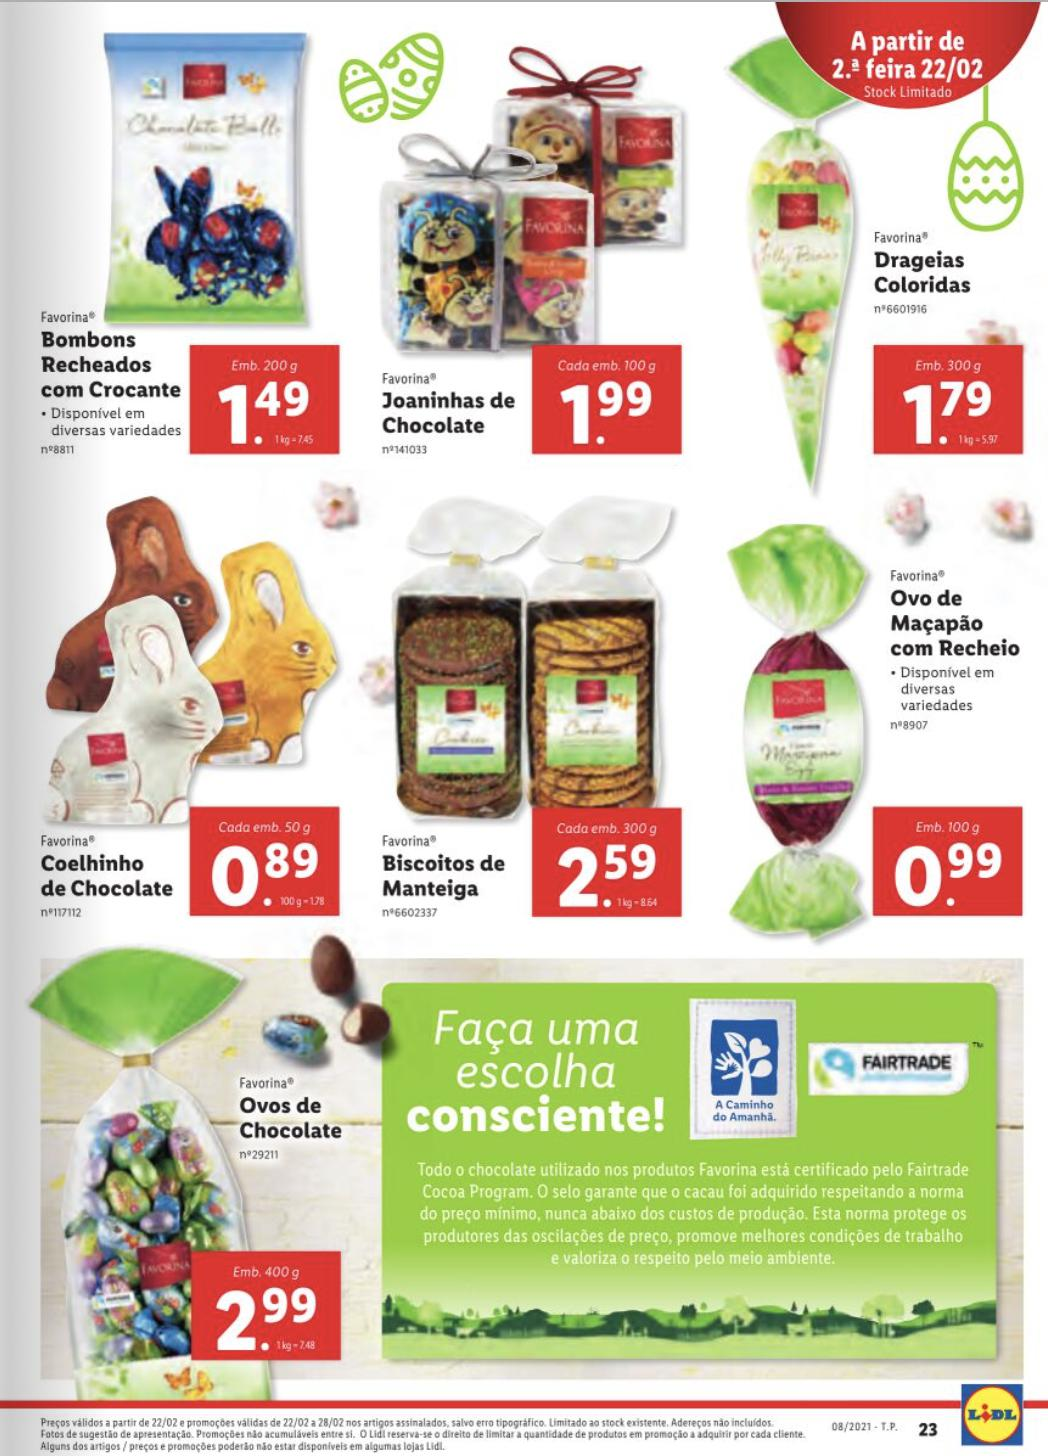name: (33, 322, 184, 402), (889, 586, 1027, 658), (378, 849, 514, 905), (382, 387, 522, 440), (36, 851, 180, 902), (236, 1089, 347, 1145), (867, 246, 978, 302)
price: (205, 838, 324, 909), (211, 1283, 324, 1358), (549, 842, 667, 912), (554, 380, 662, 451), (891, 840, 1004, 907), (216, 380, 324, 449), (904, 376, 1002, 451)
product: (364, 492, 711, 952), (369, 32, 711, 467), (27, 492, 364, 931), (29, 951, 365, 1390), (16, 23, 345, 463), (711, 532, 1034, 952), (731, 111, 1022, 480)
